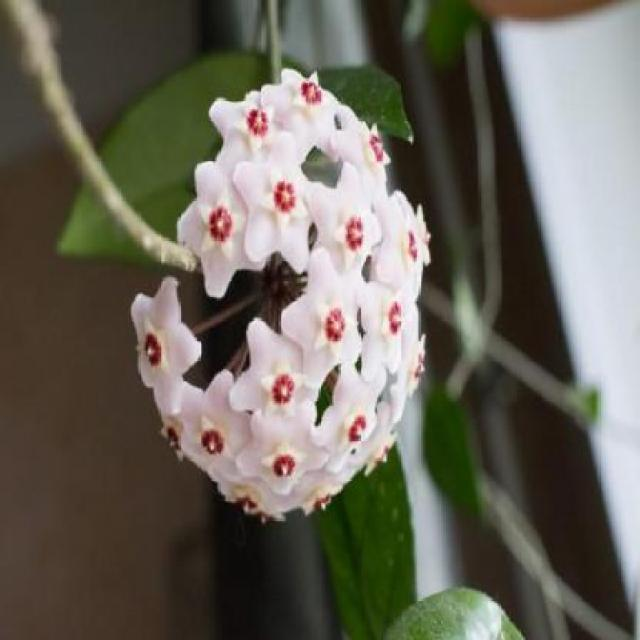flower: (130, 65, 432, 518)
